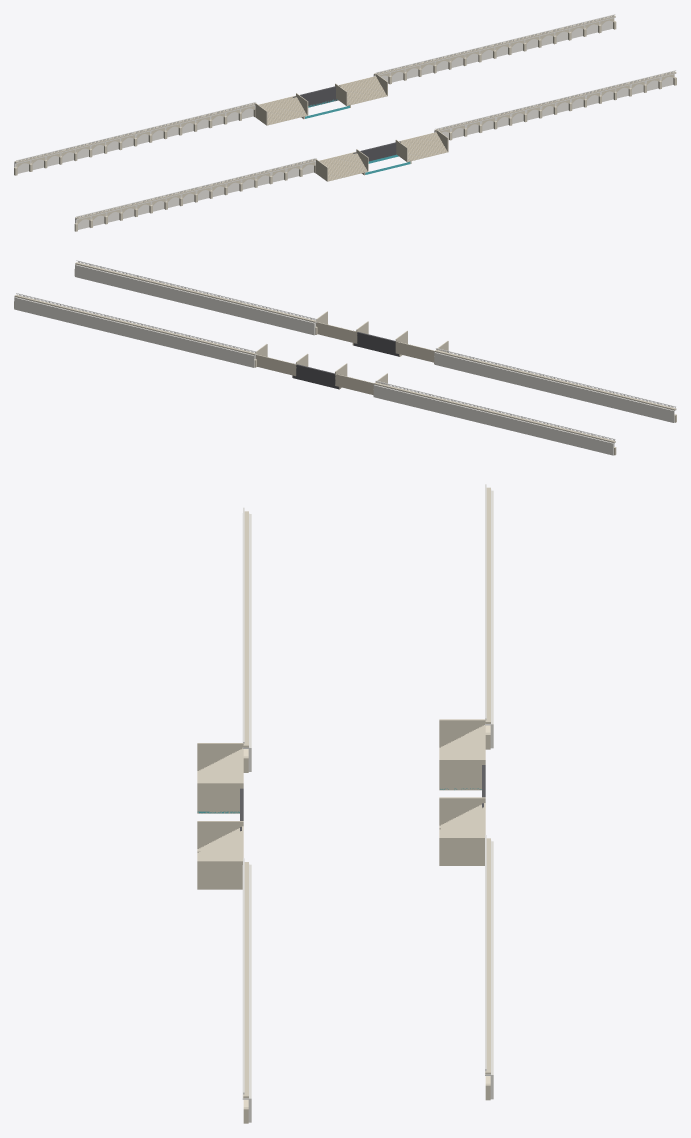
Rendered from E6-6_Arq_Eixo.fbx.
3 views of the same model, one above another, from view 1: azimuth 30°, elevation 25°; view 2: azimuth 150°, elevation 25°; view 3: azimuth 270°, elevation 25° (orthographic). The views are drawn at different scales.
Parts seen in each view (by area): view 1: E6-6_Arq_Eixo; view 2: E6-6_Arq_Eixo; view 3: E6-6_Arq_Eixo.
Boxes of the visible parts, <box> form: E6-6_Arq_Eixo: <box>14,14,676,231</box>; E6-6_Arq_Eixo: <box>14,260,676,455</box>; E6-6_Arq_Eixo: <box>197,484,493,1123</box>.
Size of the model in its own units: 241 by 11.27 by 51.41.
